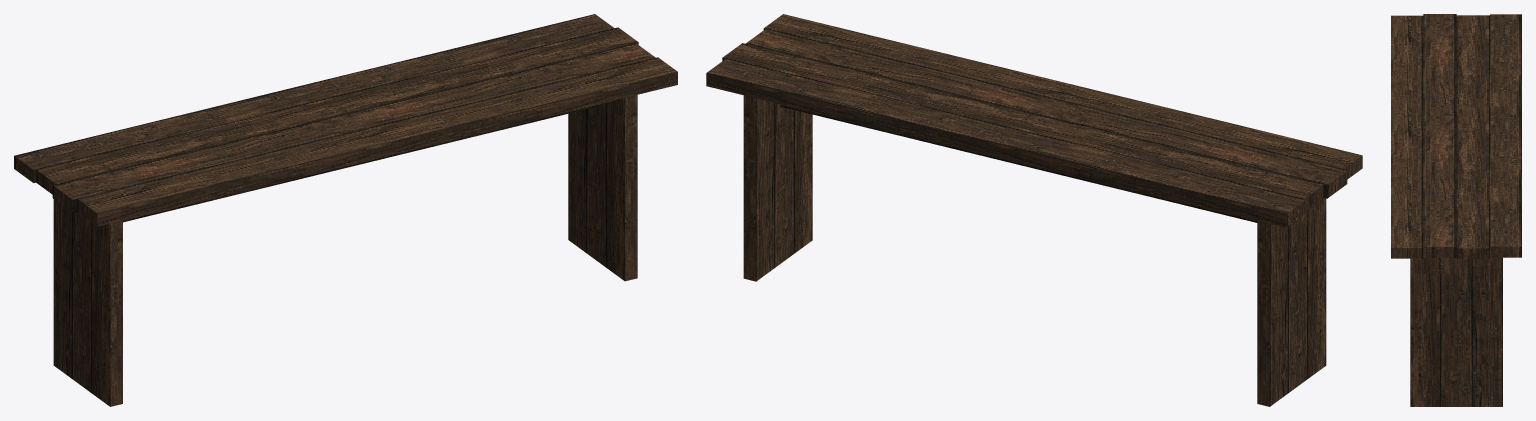
The model's file is bench_mx_1.glb.
3 renders of one model, left to right at view 1: azimuth 30°, elevation 25°; view 2: azimuth 150°, elevation 25°; view 3: azimuth 270°, elevation 25°, orthographic. The views are drawn at different scales.
Visible parts, largest first — view 1: bench_mx_1; view 2: bench_mx_1; view 3: bench_mx_1.
Part boxes in pixels (bbox=[...]): bench_mx_1: bbox=[14, 14, 677, 406]; bench_mx_1: bbox=[706, 14, 1362, 406]; bench_mx_1: bbox=[1391, 14, 1521, 406].
Bounding box in the file's own units: 1.86 × 0.63 × 0.438.
1 material, 1 textured.
